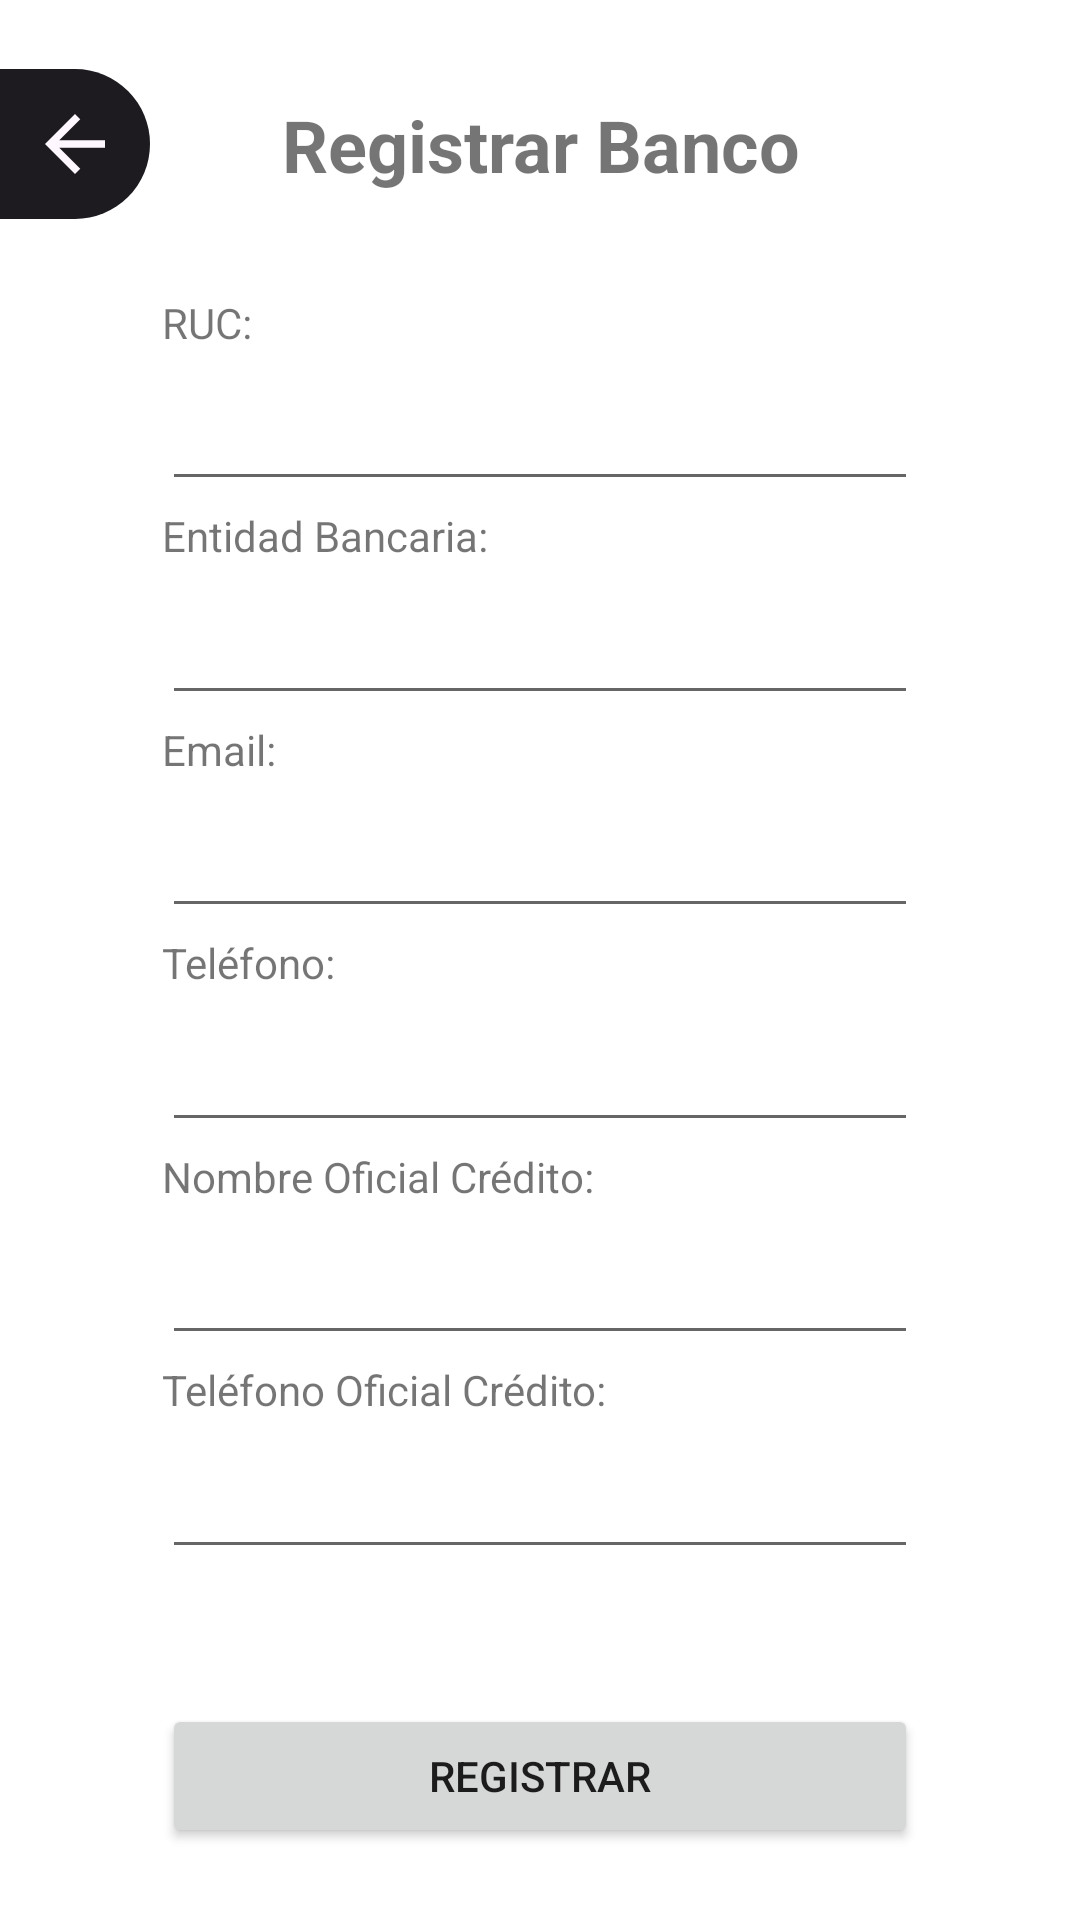

Screen size 1080 x 1920. Icon name, then its box in pixels as [x1, y1, x2, y2]:
Botón de Regresar a la pestaña principal: [0, 69, 150, 219]
